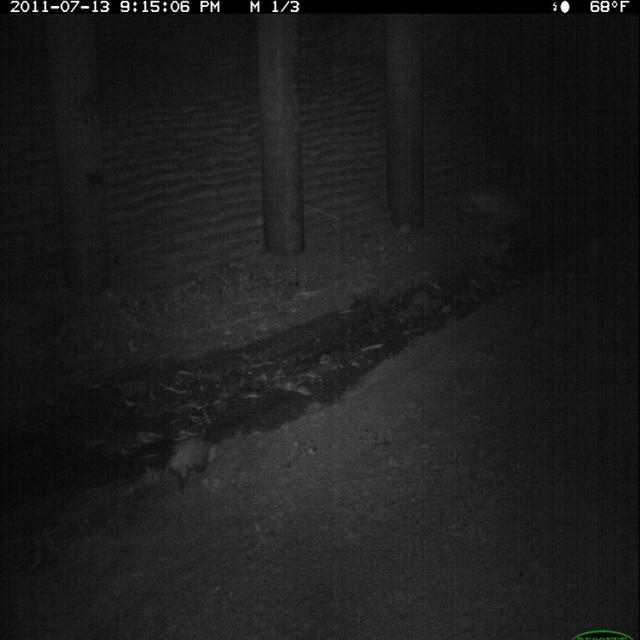opossum: (157, 431, 223, 499)
